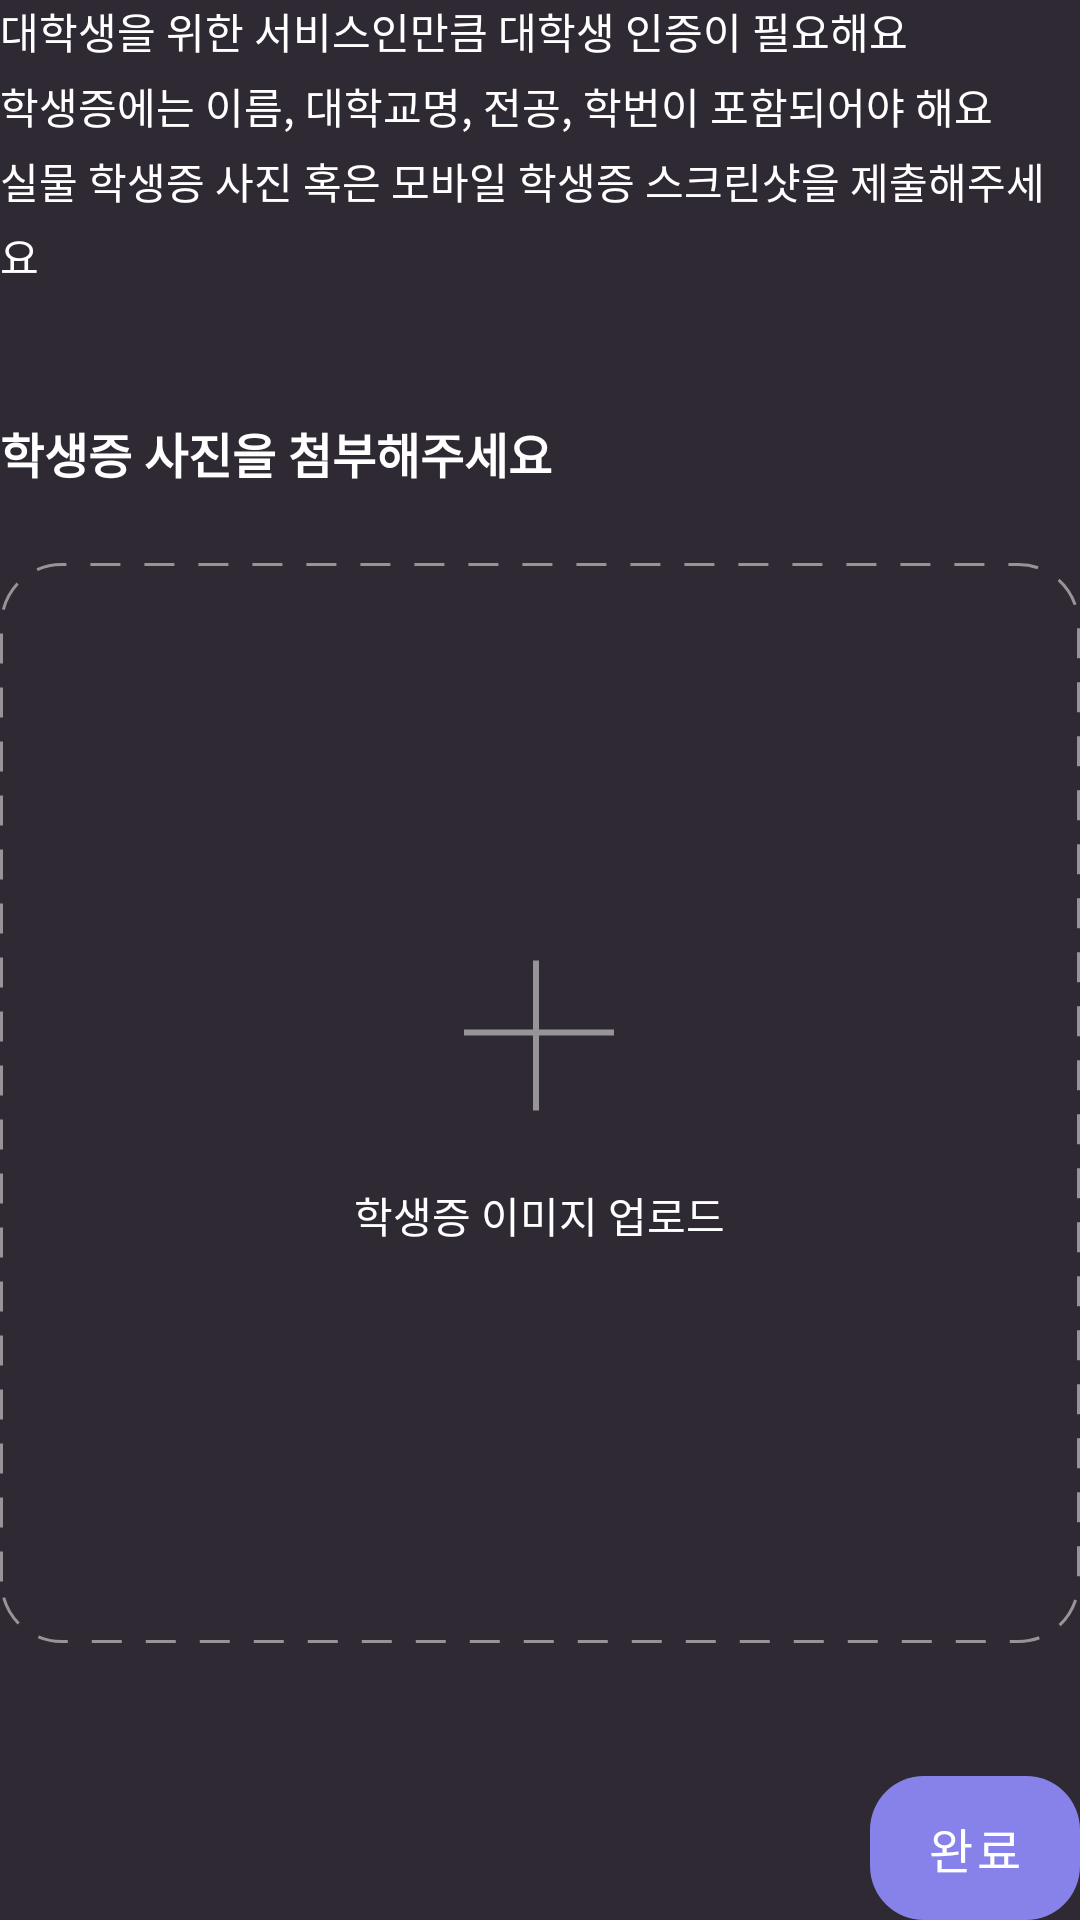

Named icons in this screenshot (1080 × 1920) and their bounding boxes, box=[x1, y1, x2, y2]:
add std card: box=[464, 960, 614, 1111]
